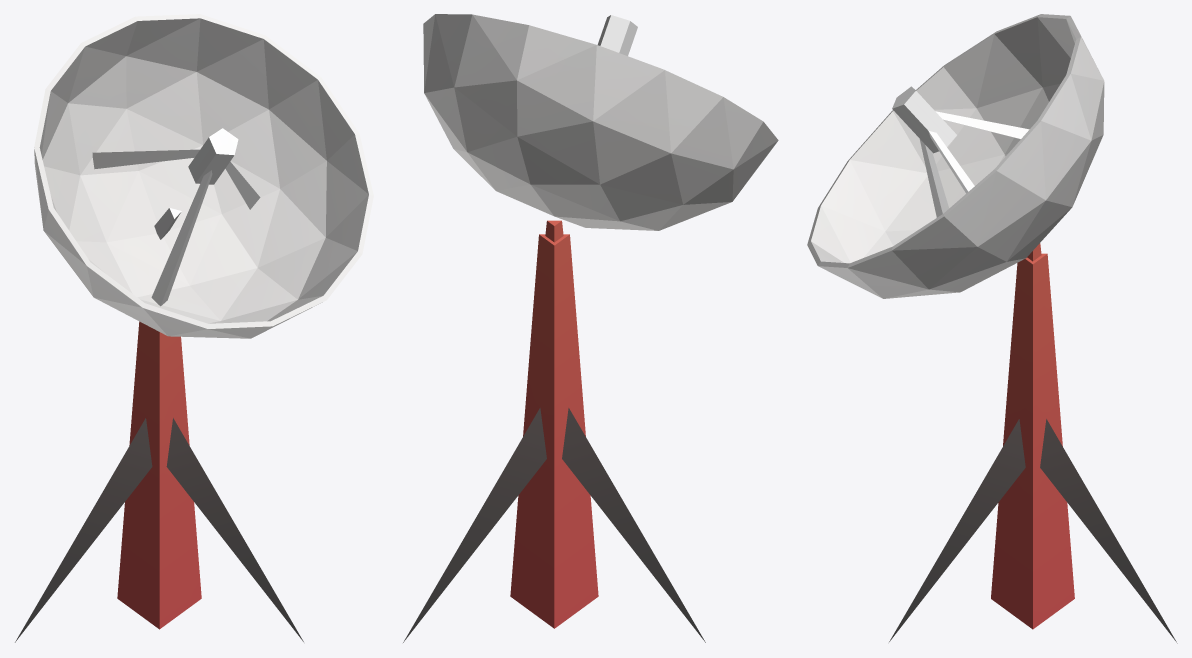
Rendered from antenne.FBX.
The picture shows the model from 3 angles, left to right: view 1: azimuth 30°, elevation 25°; view 2: azimuth 150°, elevation 25°; view 3: azimuth 270°, elevation 25°; orthographic projection. The views are drawn at different scales.
Visible parts, largest first — view 1: antenne_dome, antenne_support; view 2: antenne_dome, antenne_support; view 3: antenne_dome, antenne_support.
Boxes of the visible parts, x1=… form: antenne_dome: x1=34, y1=14, x2=373, y2=338; antenne_support: x1=15, y1=321, x2=303, y2=642; antenne_dome: x1=423, y1=14, x2=778, y2=230; antenne_support: x1=403, y1=220, x2=705, y2=642; antenne_dome: x1=807, y1=14, x2=1104, y2=298; antenne_support: x1=889, y1=243, x2=1177, y2=643.
Bounding box in the file's own units: 12.97 × 22.91 × 13.44.
